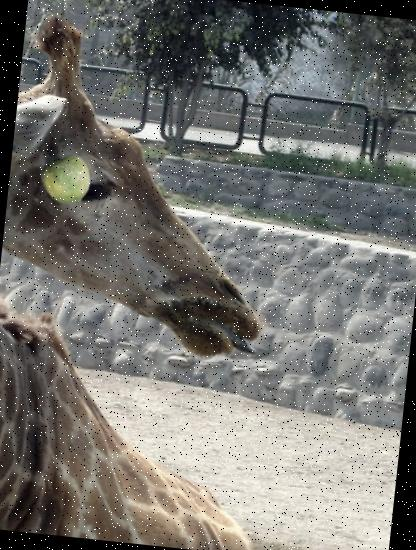Limes: (38, 152, 94, 208)
